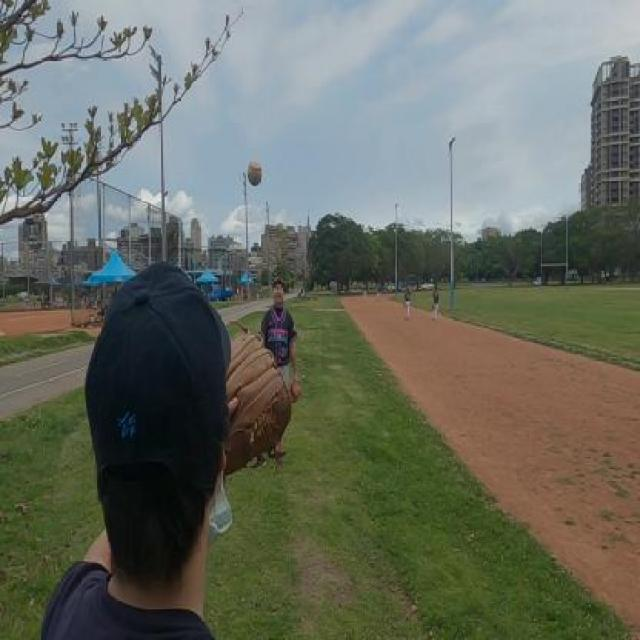baseball: (248, 160, 262, 188)
